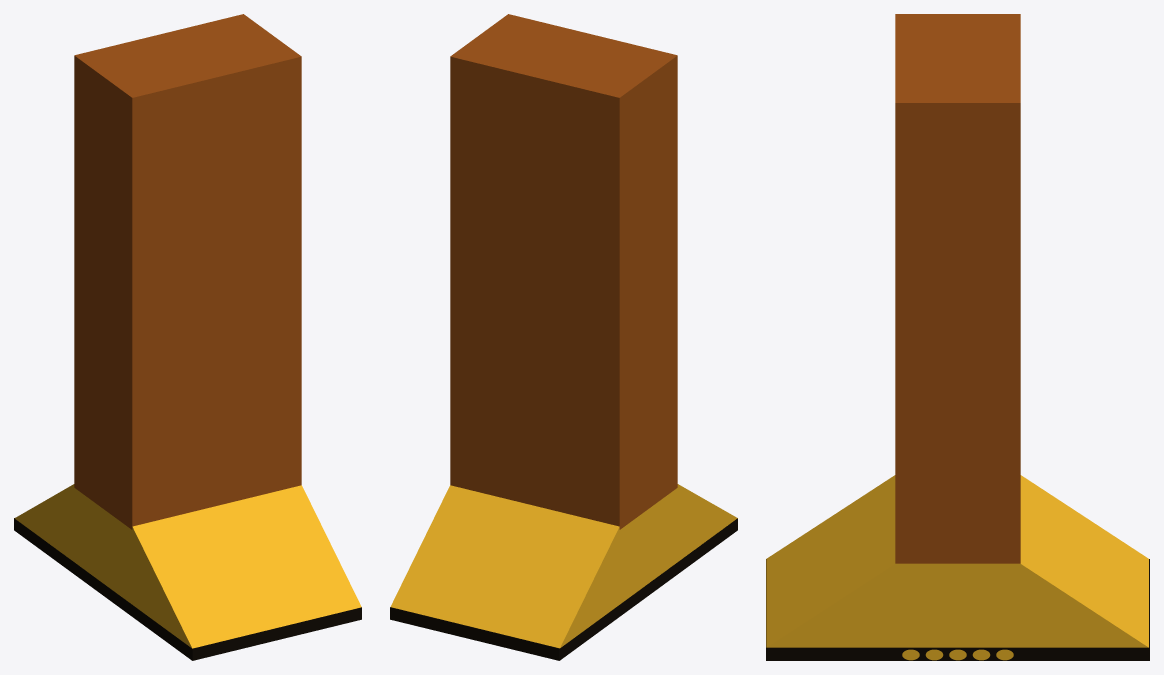
Rendered from Campana.obj.
3 renders of one model, left to right at view 1: azimuth 30°, elevation 25°; view 2: azimuth 150°, elevation 25°; view 3: azimuth 270°, elevation 25°, orthographic. The views are drawn at different scales.
Parts seen in each view (by area): view 1: Campana:pCube16; view 2: Campana:pCube16; view 3: Campana:pCube16.
Part boxes in pixels (<box>): Campana:pCube16: <box>14,14,361,660</box>; Campana:pCube16: <box>390,14,737,660</box>; Campana:pCube16: <box>766,14,1149,660</box>.
Bounding box in the file's own units: 0.3992 × 1.16 × 0.7237.
3 materials, 3 textured.
